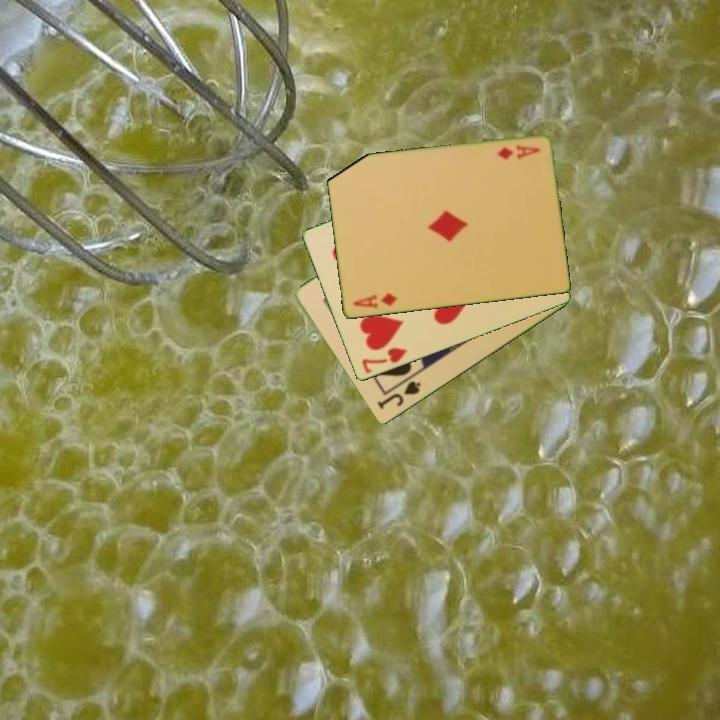7h: (358, 344, 410, 377)
Ad: (349, 290, 400, 312), (493, 142, 543, 163)
Js: (374, 378, 424, 412)
